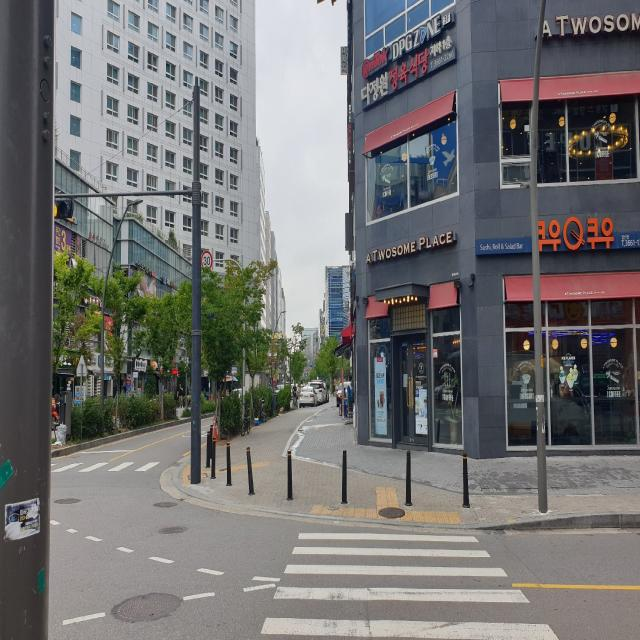횡단보도: (260, 530, 560, 640), (47, 455, 164, 487)
